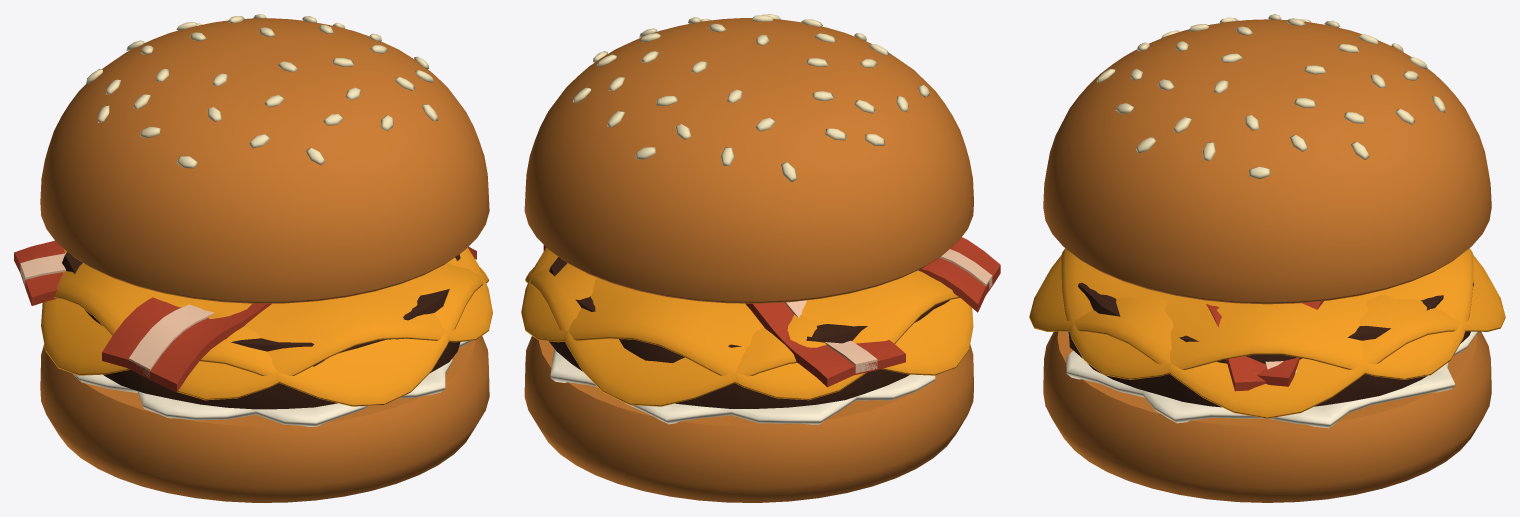
Rendered from cheddar-bacon.glb.
3 views of the same model, side by side, from view 1: azimuth 30°, elevation 25°; view 2: azimuth 150°, elevation 25°; view 3: azimuth 270°, elevation 25° (orthographic).
Visible parts, largest first — view 1: cheddar-bacon; view 2: cheddar-bacon; view 3: cheddar-bacon.
Boxes of the visible parts, bbox=[...] form: cheddar-bacon: bbox=[14, 14, 492, 502]; cheddar-bacon: bbox=[521, 14, 1000, 502]; cheddar-bacon: bbox=[1029, 14, 1505, 502].
Bounding box in the file's own units: 0.1167 × 0.1 × 0.1167.
